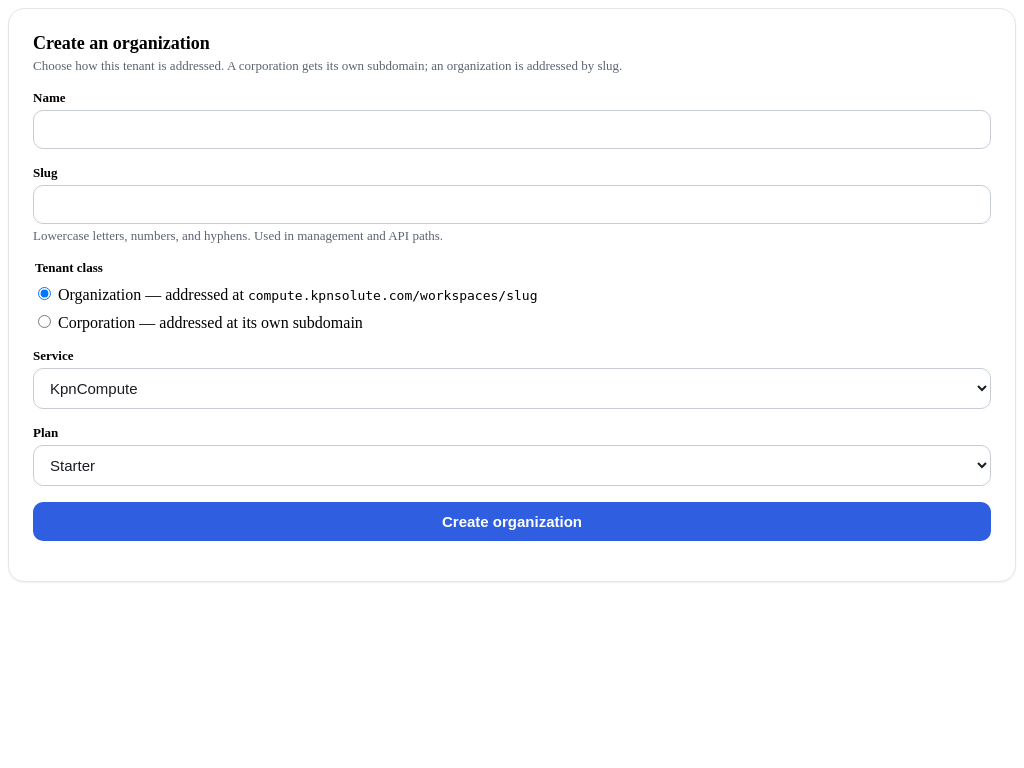
Scenario: ProvisionOrganizationPage › reports a server refusal without losing what was entered
The image size is (1024, 768).
In the field labelled "Name": (512, 130) left=33, top=110, right=991, bottom=149, type "MJCC"
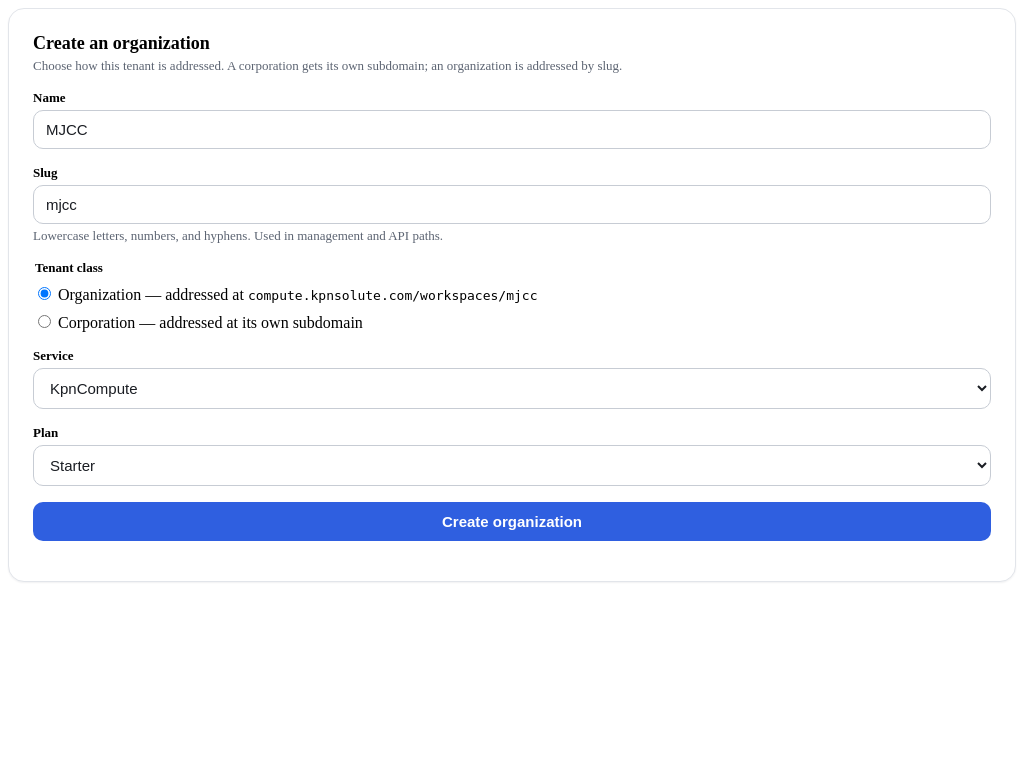
Click the radio button labelled "Corporation — addressed at its own subdomain": (44, 322) left=38, top=315, right=51, bottom=328
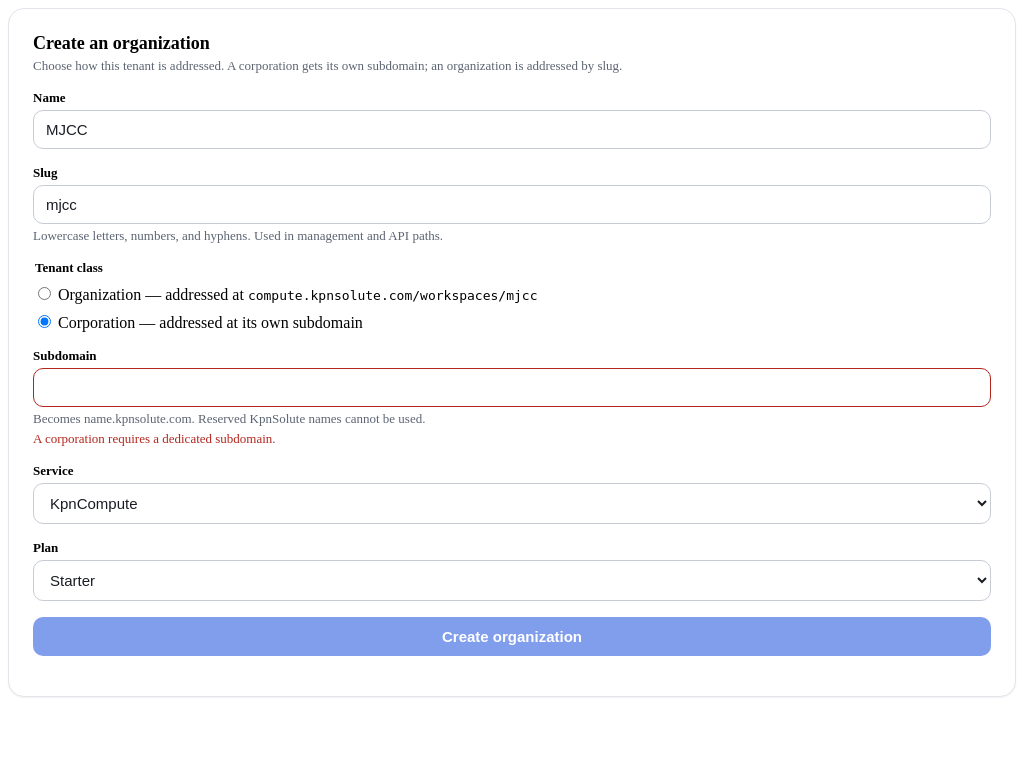
In the field labelled "Subdomain": (512, 388) left=33, top=368, right=991, bottom=407, type "mjcc"
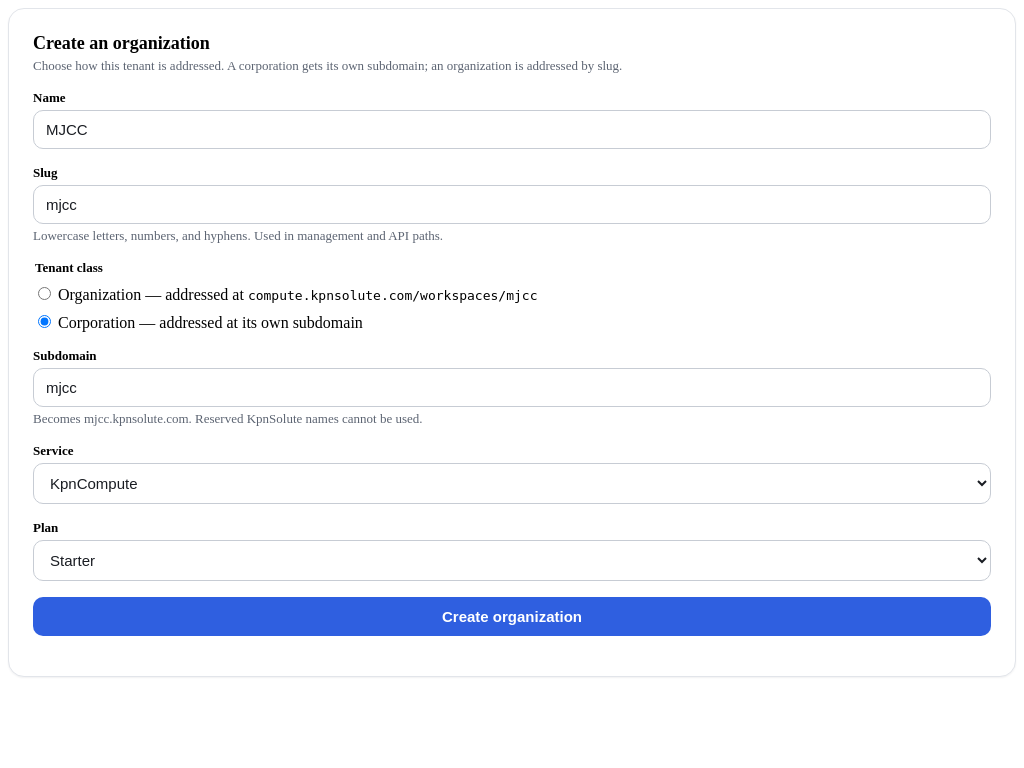
Click the button "Create organization": (512, 616) left=33, top=597, right=991, bottom=636
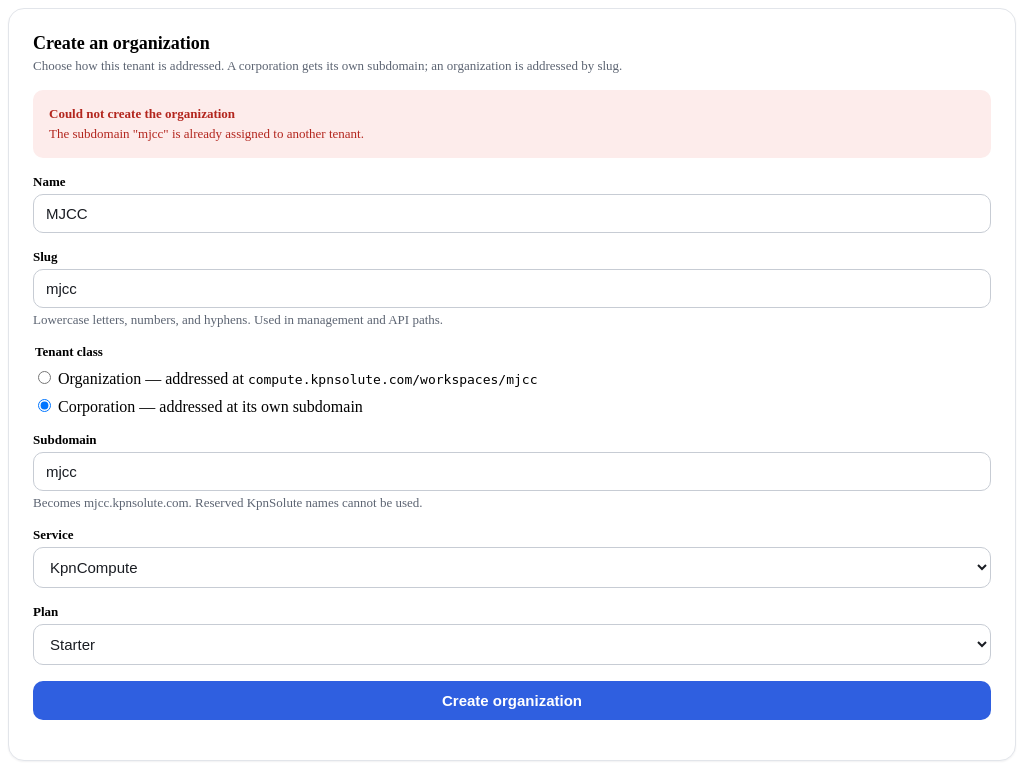
Check: the text "The subdomain \"mjcc\" is already assigned to another tenant." is shown, box left=49, top=126, right=364, bottom=141
